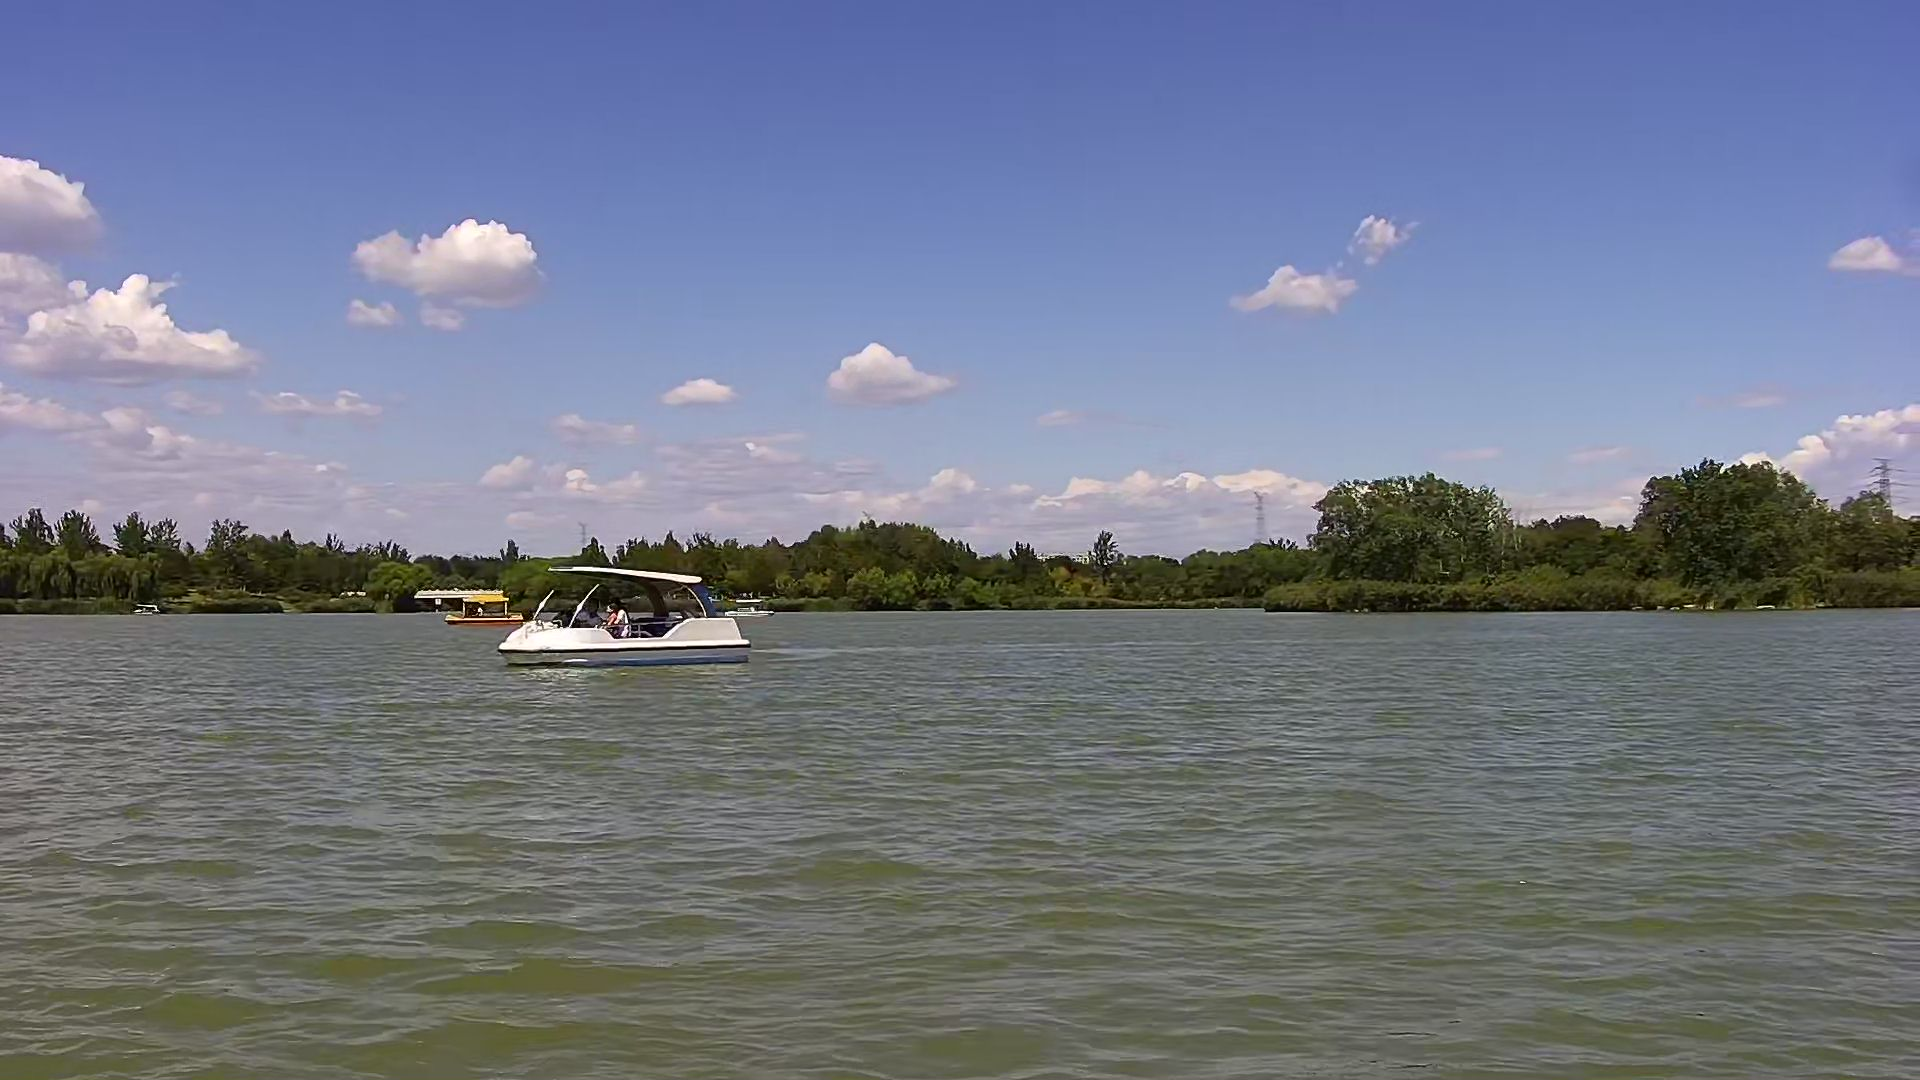boat: (496, 567, 752, 679), (448, 593, 526, 620)
bridge: (414, 589, 506, 612)
